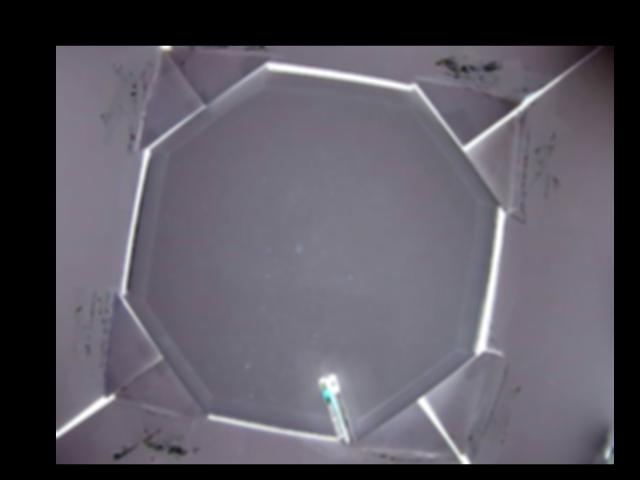Battery: (319, 374, 356, 446)
